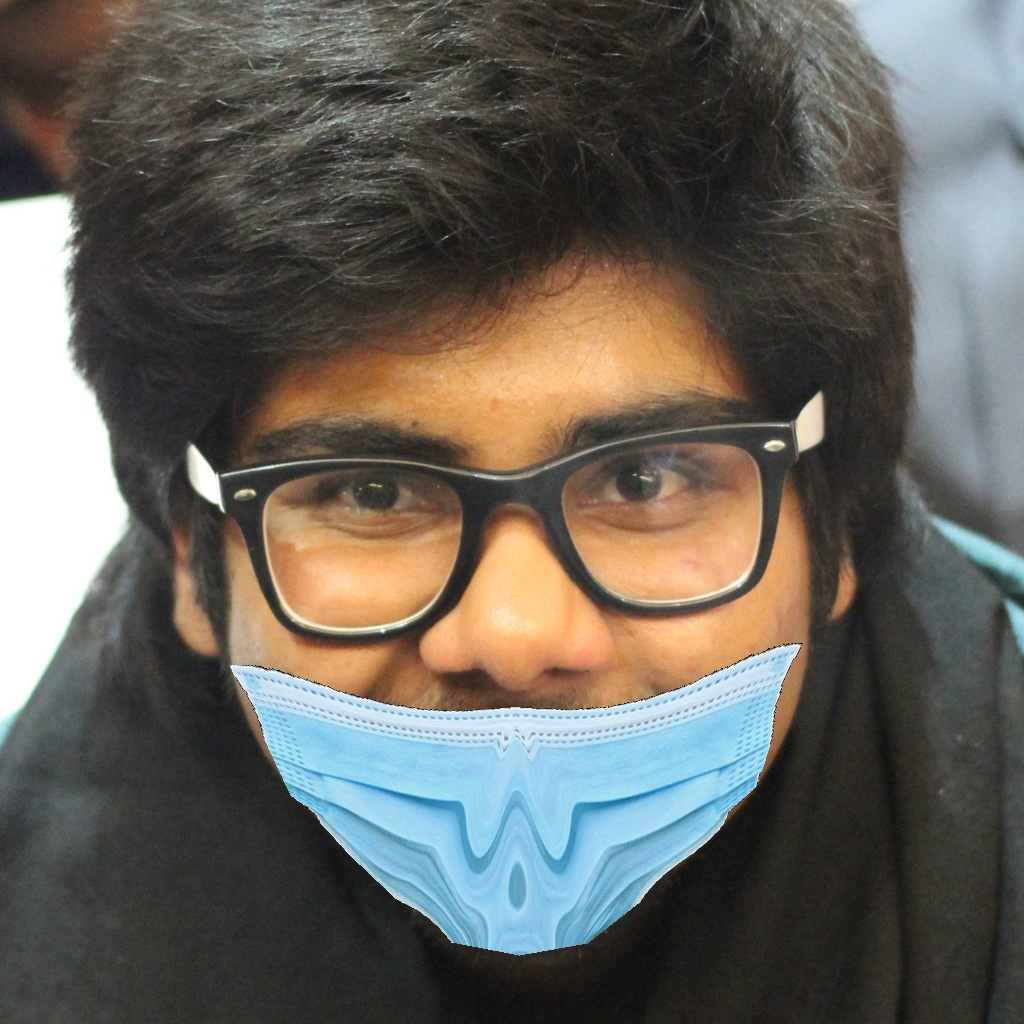mask_weared_incorrect: (239, 446, 807, 960)
